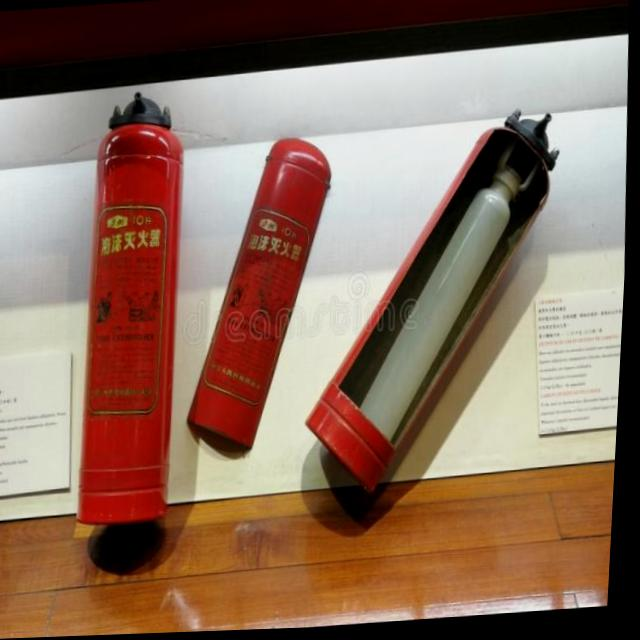FireExtinguisher: (293, 91, 582, 507), (55, 84, 201, 539), (178, 130, 347, 465)
